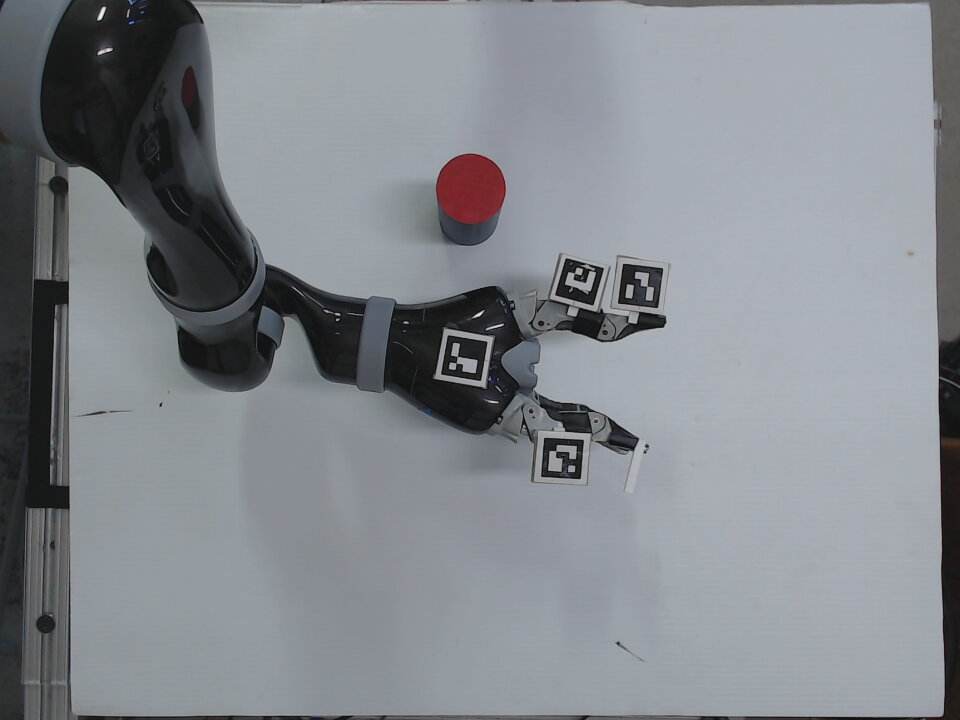cylinder: (432, 151, 509, 249)
